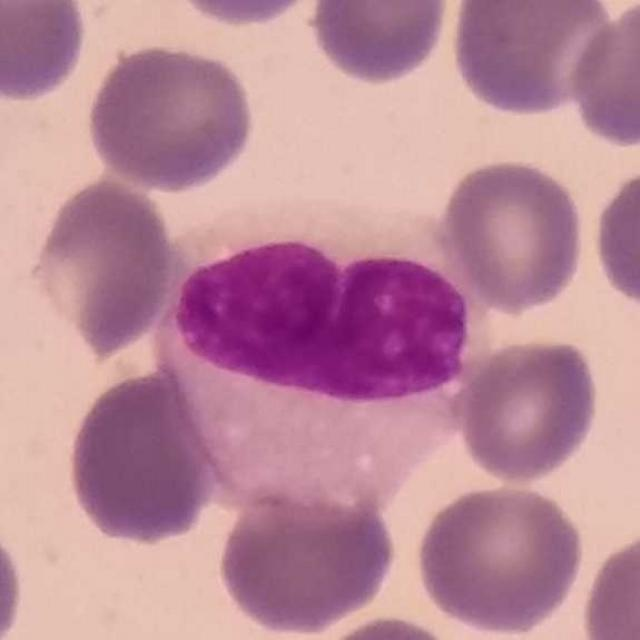mono: (144, 203, 509, 526)
